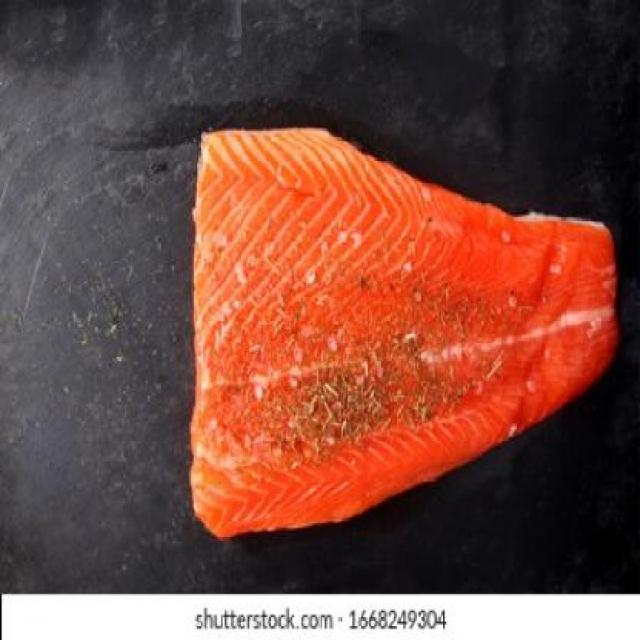salmon: (168, 80, 615, 555)
